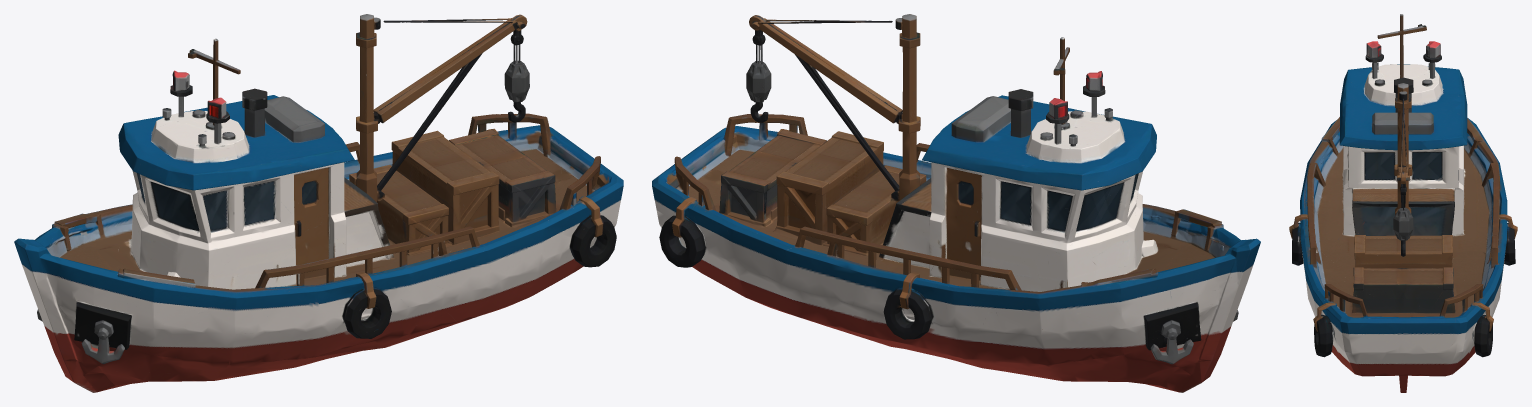
The model's file is barco de pesca.glb.
3 renders of one model, left to right at view 1: azimuth 30°, elevation 25°; view 2: azimuth 150°, elevation 25°; view 3: azimuth 270°, elevation 25°, orthographic. The views are drawn at different scales.
Size of the model in its own units: 0.3321 by 0.18 by 0.1456.
Materials: 1 (1 with a texture image).
